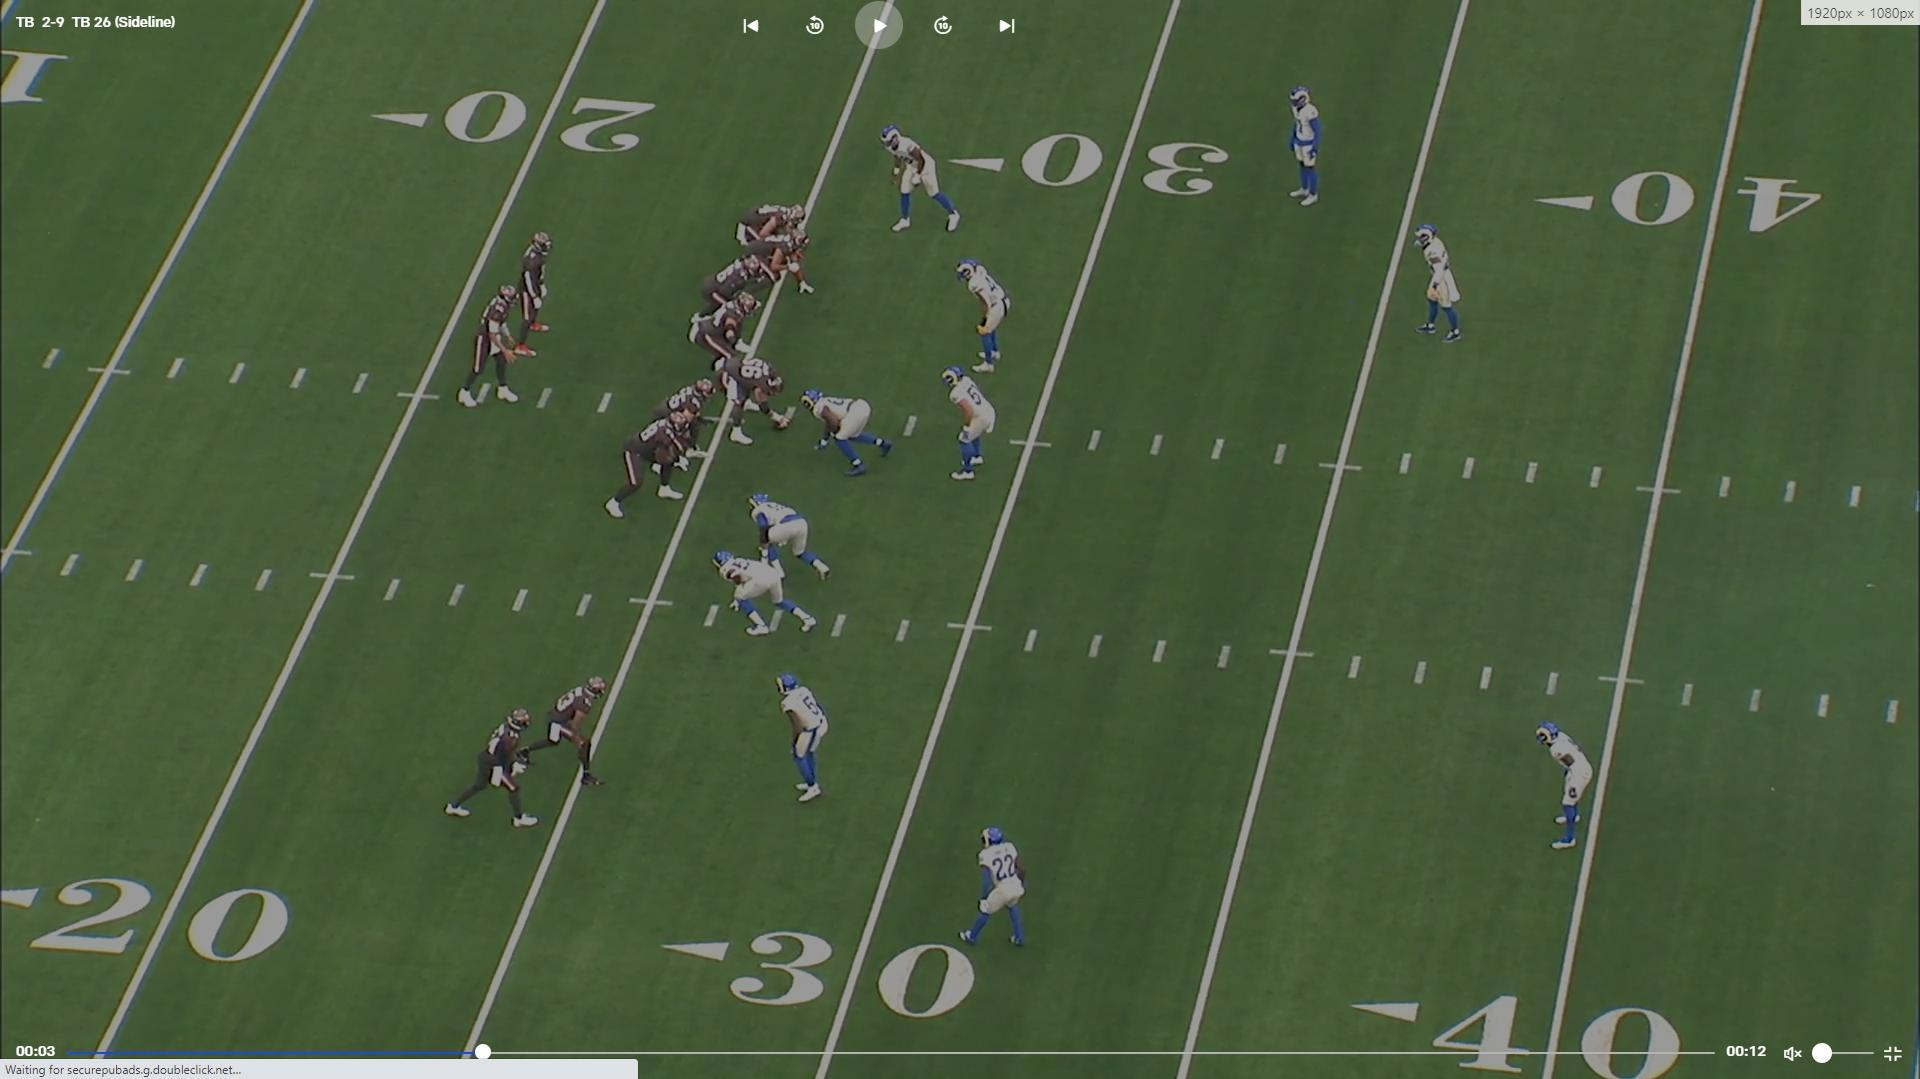defense: (872, 117, 963, 233), (956, 822, 1034, 955), (1534, 716, 1604, 859), (711, 546, 816, 638), (800, 385, 898, 480), (778, 669, 839, 810), (744, 488, 833, 582), (939, 361, 998, 489), (1415, 219, 1473, 348), (953, 253, 1010, 376), (1280, 79, 1327, 210)
oline: (604, 416, 698, 526), (716, 355, 796, 448), (692, 295, 764, 389), (650, 375, 715, 472), (704, 252, 771, 336)
qb: (454, 282, 527, 416)
skill: (446, 703, 547, 838), (527, 671, 612, 791), (738, 227, 820, 295), (520, 228, 558, 352), (740, 202, 815, 259)
